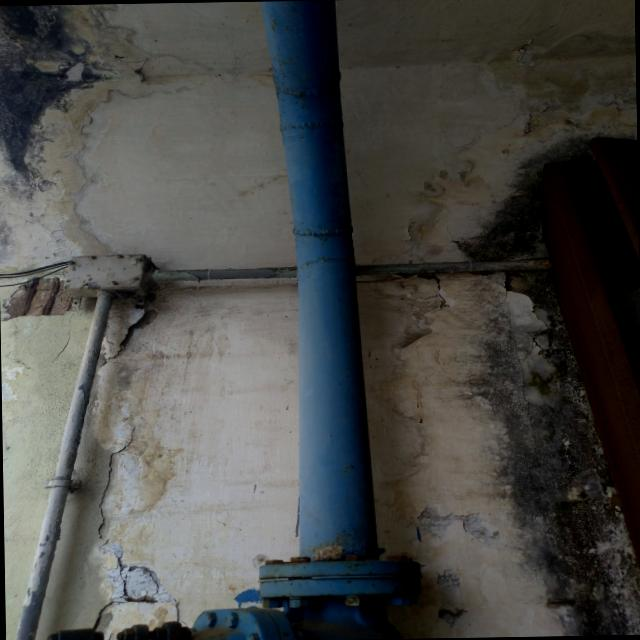gas: (263, 0, 382, 640)
